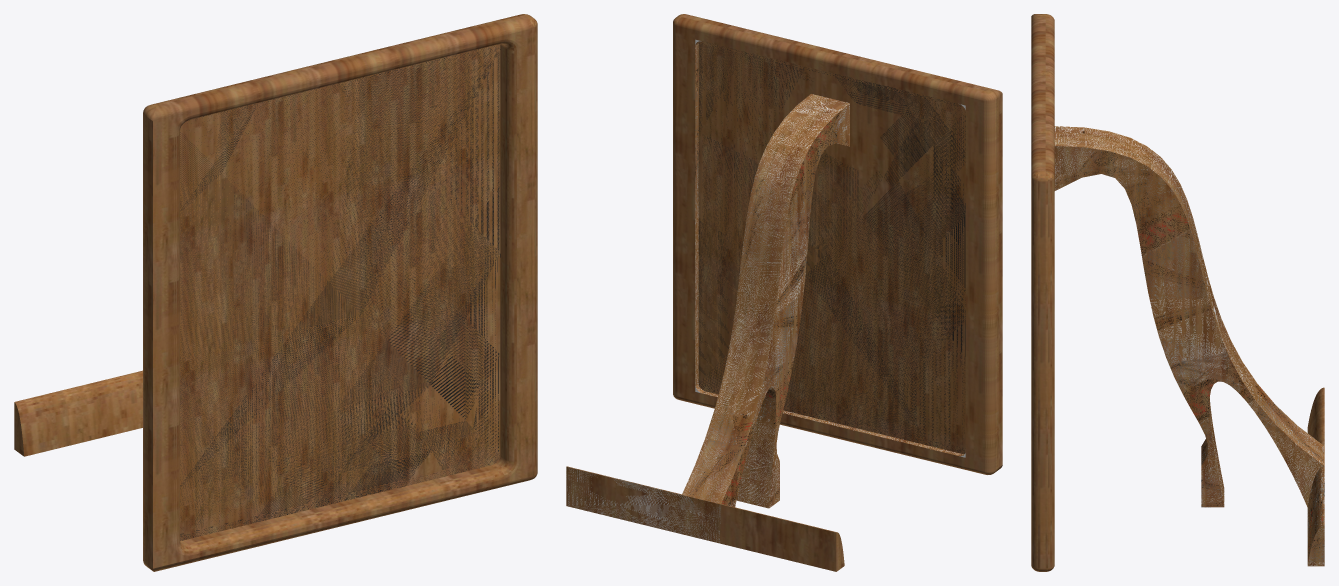
The picture shows the model from 3 angles, left to right: view 1: azimuth 30°, elevation 25°; view 2: azimuth 150°, elevation 25°; view 3: azimuth 270°, elevation 25°; orthographic projection. The views are drawn at different scales.
Visible parts, largest first — view 1: SketchUp (×4); view 2: SketchUp (×5); view 3: SketchUp (×3).
Part boxes in pixels (left/top/right/bottom): SketchUp (×4): left=14, top=14, right=537, bottom=571; SketchUp (×5): left=566, top=14, right=1002, bottom=571; SketchUp (×3): left=1031, top=14, right=1324, bottom=571.
Bounding box in the file's own units: 169 × 128 × 194.
Materials: 4 (2 with a texture image).
